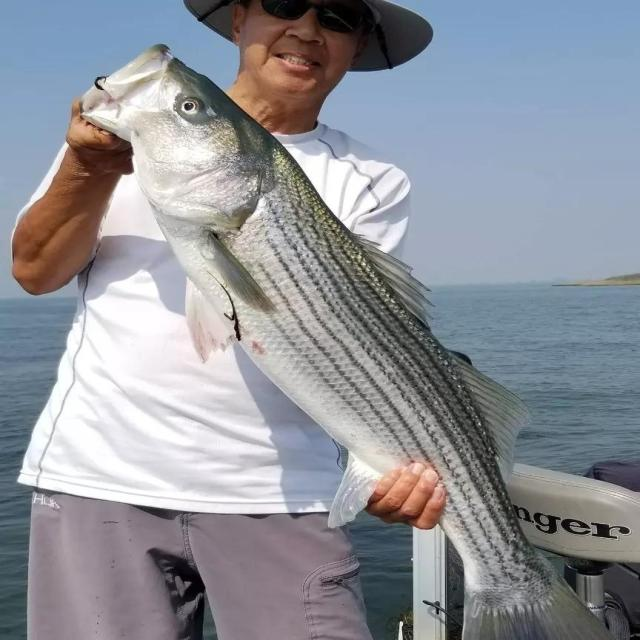Bass - Striped: (82, 45, 612, 639)
